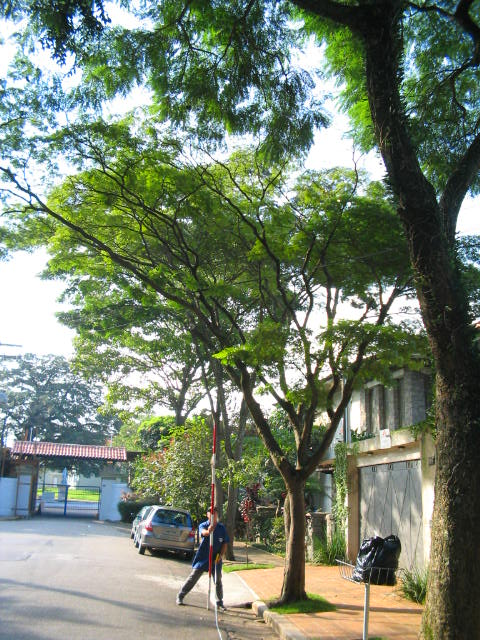crown: (9, 139, 424, 403)
stem: (266, 480, 323, 602)
stick: (201, 417, 222, 608)
tree: (8, 137, 425, 604)
